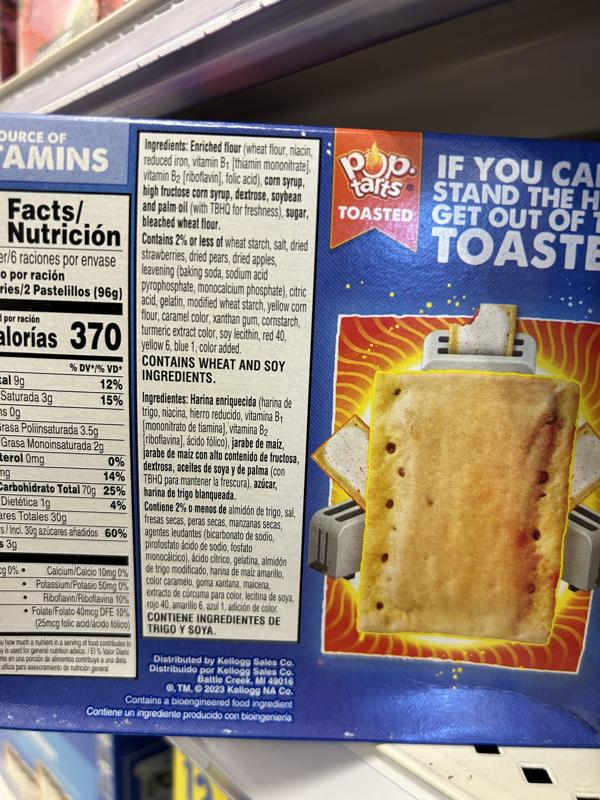ingredients: (140, 137, 311, 232)
